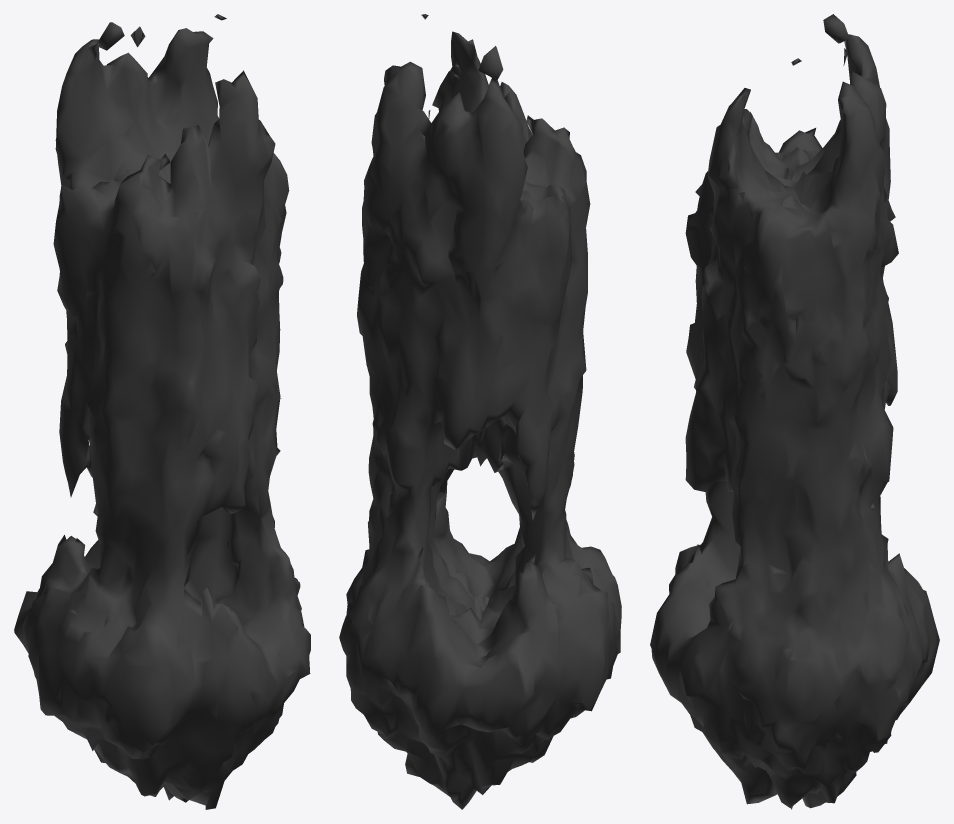
Rendered from cluster-0.glb.
3 views of the same model, side by side, from view 1: azimuth 30°, elevation 25°; view 2: azimuth 150°, elevation 25°; view 3: azimuth 270°, elevation 25° (orthographic).
Parts seen in each view (by area): view 1: geometry_0; view 2: geometry_0; view 3: geometry_0.
Boxes of the visible parts, x1,y1,x2,y2 form: geometry_0: (14,14,310,809); geometry_0: (339,14,621,809); geometry_0: (650,14,939,809).
Size of the model in its own units: 0.337 by 1 by 0.3406.
Materials: 1 (1 with a texture image).
